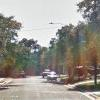Tree: (50, 15, 100, 76)
